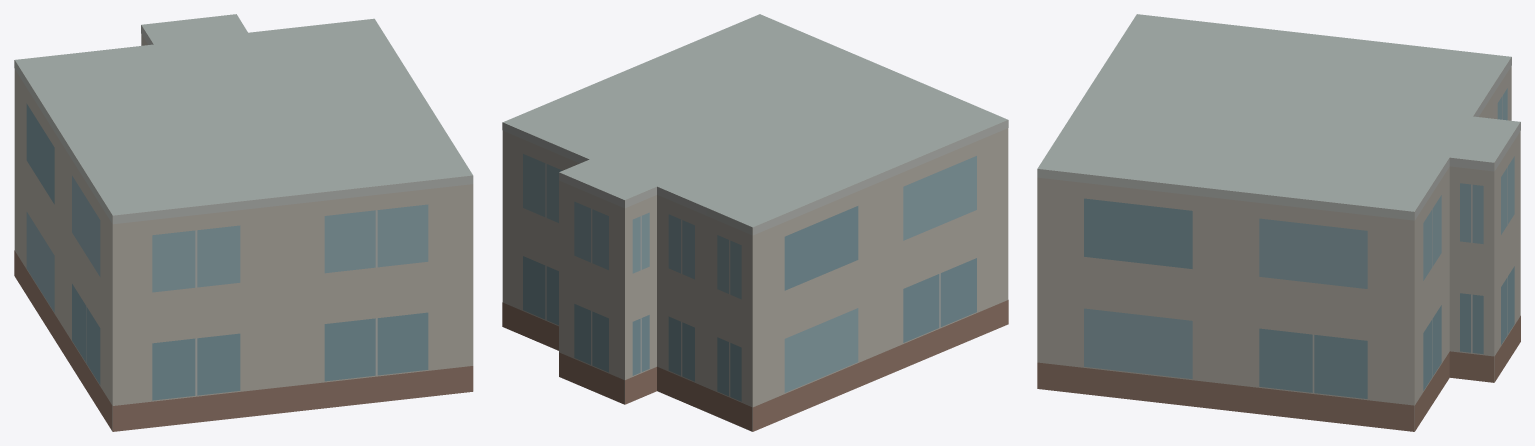
Rendered from survey-upis-32822591.glb.
3 views of the same model, side by side, from view 1: azimuth 30°, elevation 25°; view 2: azimuth 150°, elevation 25°; view 3: azimuth 270°, elevation 25° (orthographic). The views are drawn at different scales.
Visible parts, largest first — view 1: survey-upis-32822591.tmp; view 2: survey-upis-32822591.tmp; view 3: survey-upis-32822591.tmp.
Part boxes in pixels (x1=…): survey-upis-32822591.tmp: x1=14, y1=14, x2=473, y2=431; survey-upis-32822591.tmp: x1=502, y1=14, x2=1008, y2=431; survey-upis-32822591.tmp: x1=1037, y1=14, x2=1520, y2=431.
Size of the model in its own units: 11.77 by 6.1 by 12.16.
